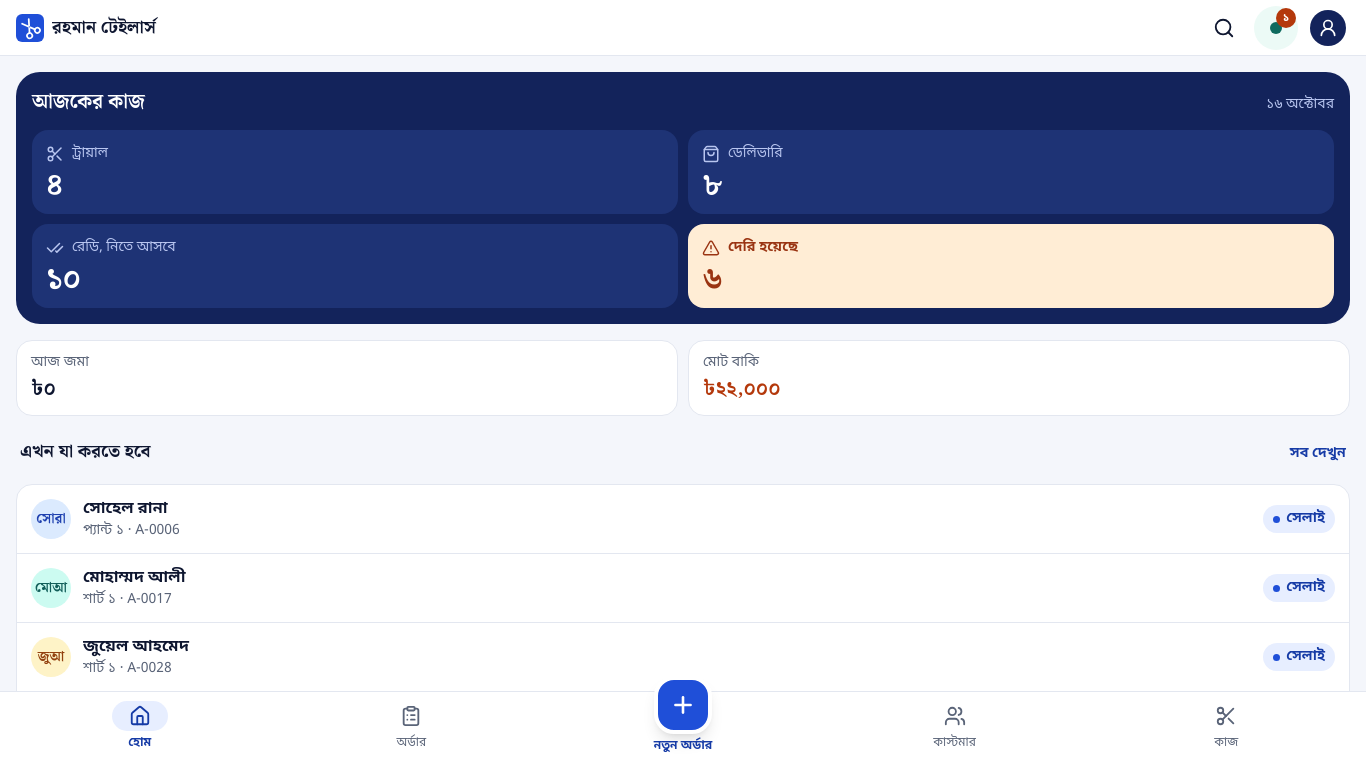
Account menu › closes when a section link is followed
Click the button named "অ্যাকাউন্ট ও আরও" at (1328,28), box [1306, 6, 1350, 50]
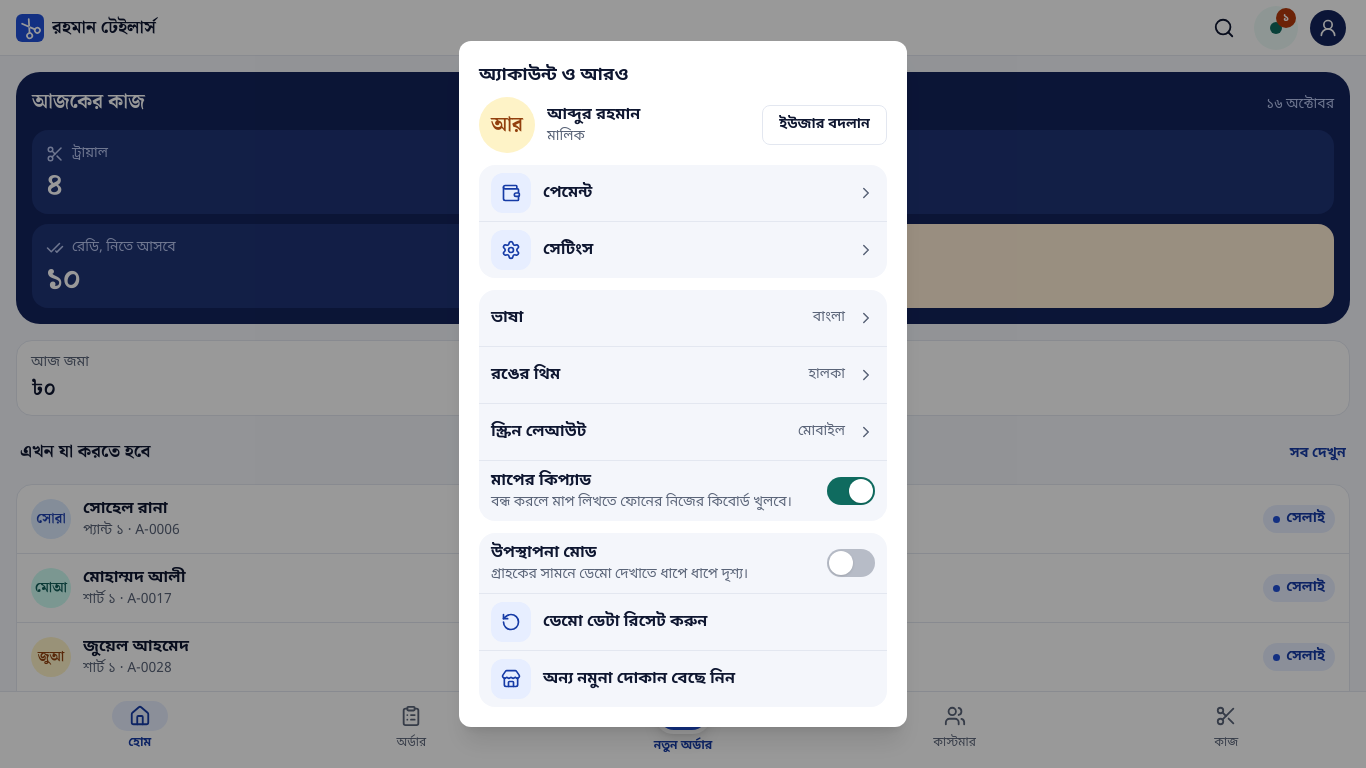
Click the link "পেমেন্ট" at (511,193), box [479, 165, 887, 222]
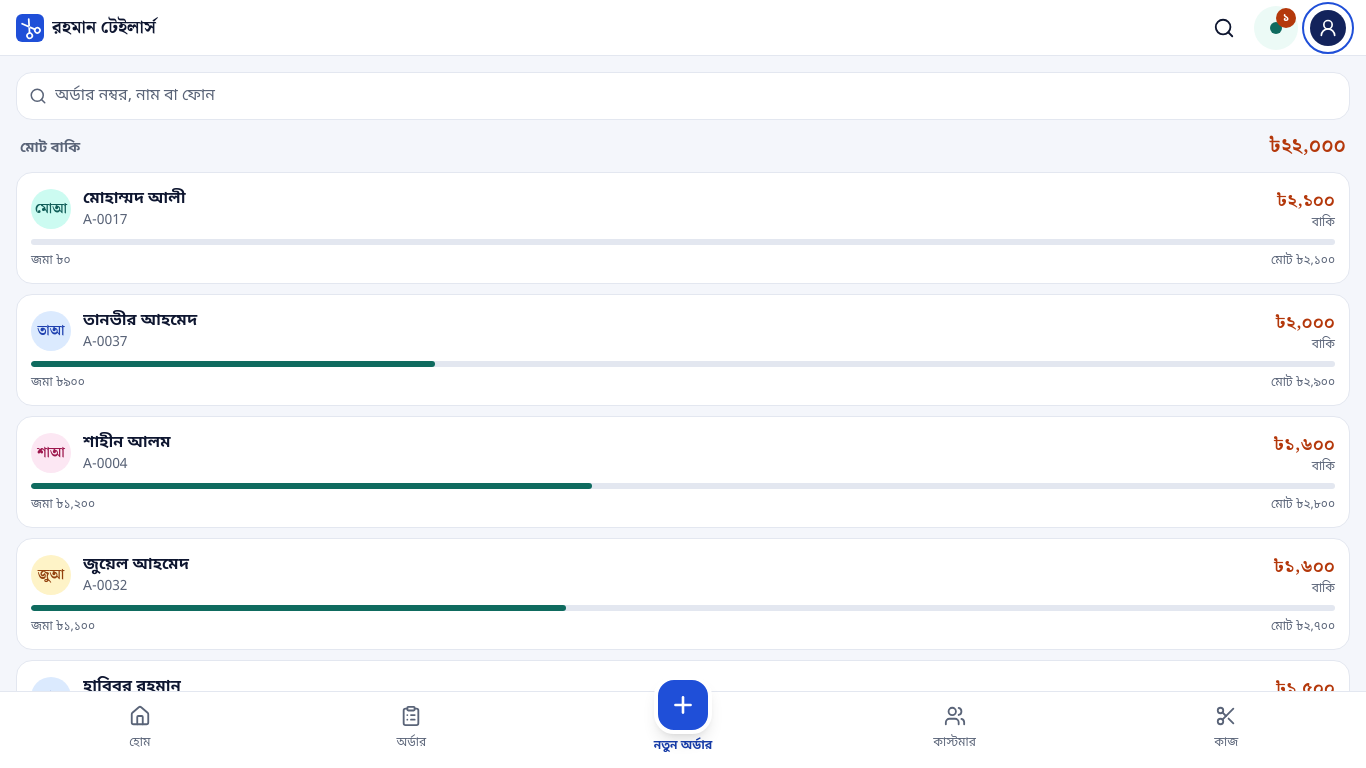
expect the heading "অ্যাকাউন্ট ও আরও" is gone: met
